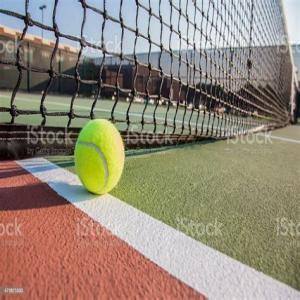Tennis: (74, 116, 126, 200)
